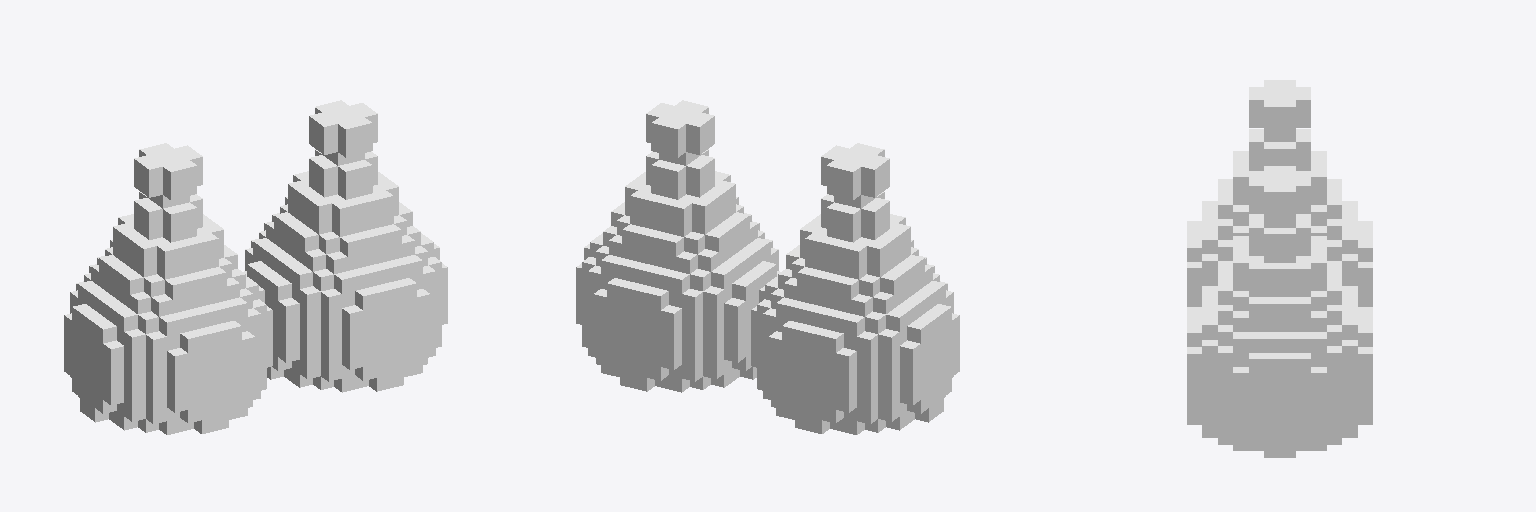
File: PotionShelf-3.obj
3 renders of one model, left to right at view 1: azimuth 30°, elevation 25°; view 2: azimuth 150°, elevation 25°; view 3: azimuth 270°, elevation 25°, orthographic.
Visible parts, largest first — view 1: object 1; view 2: object 1; view 3: object 1.
Boxes of the visible parts, x1,y1,x2,y2 form: object 1: [64, 100, 447, 434]; object 1: [576, 100, 959, 434]; object 1: [1187, 80, 1372, 457].
Bounding box in the file's own units: 2.5 × 1.7 × 1.2.